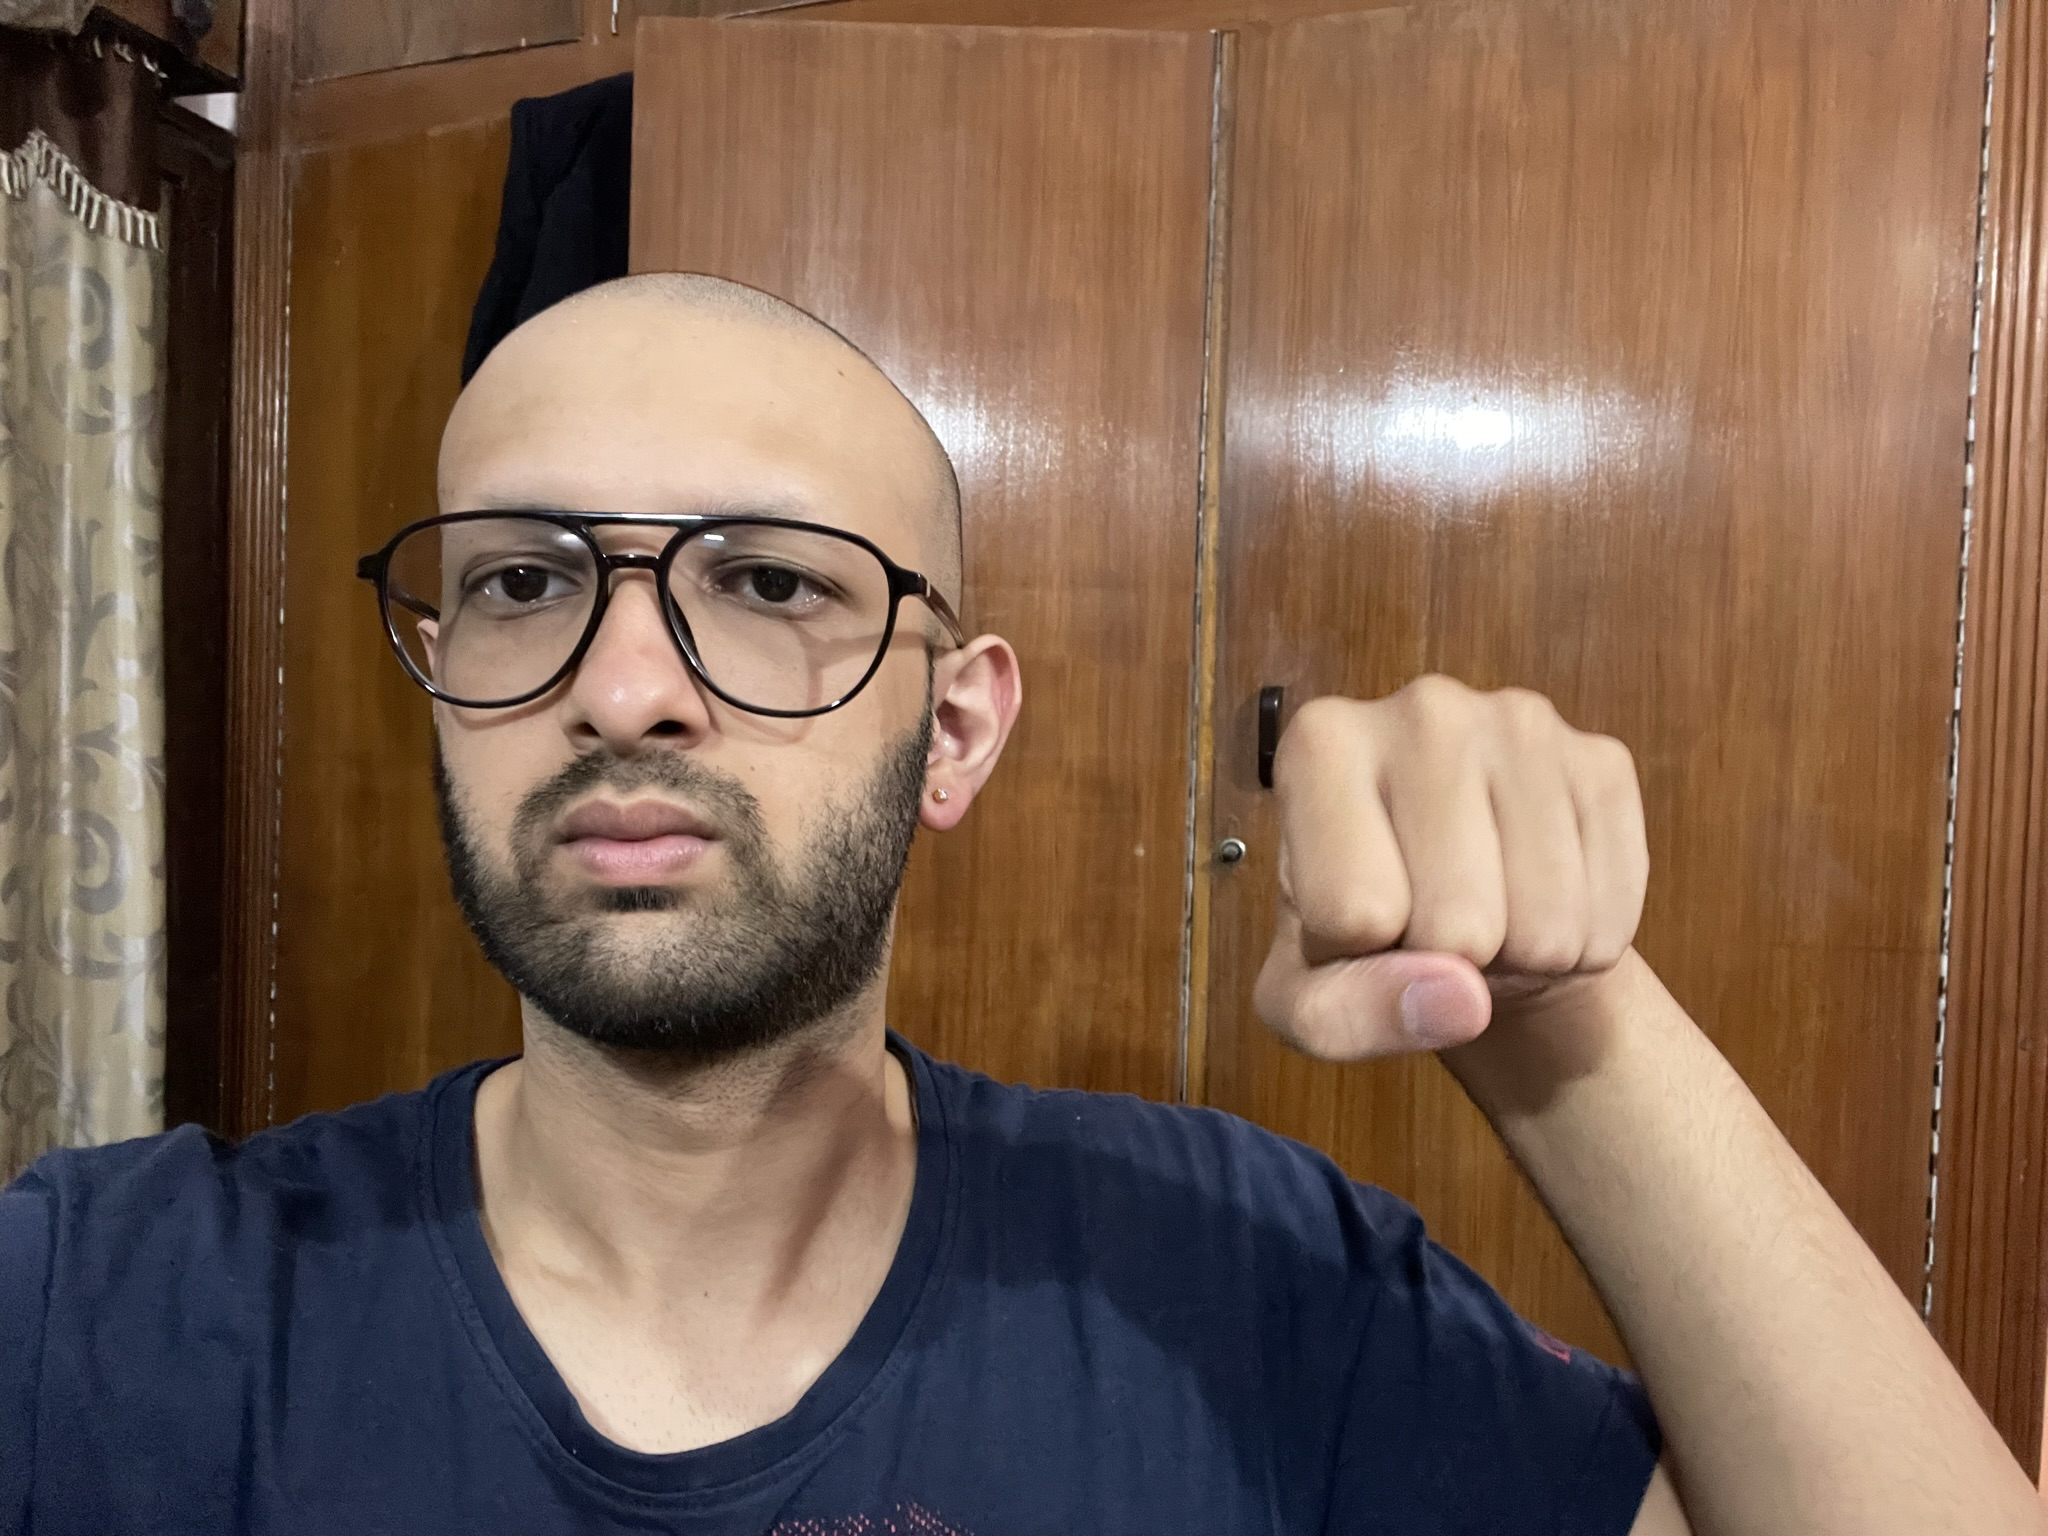Yes: (1237, 649, 1672, 1105)
